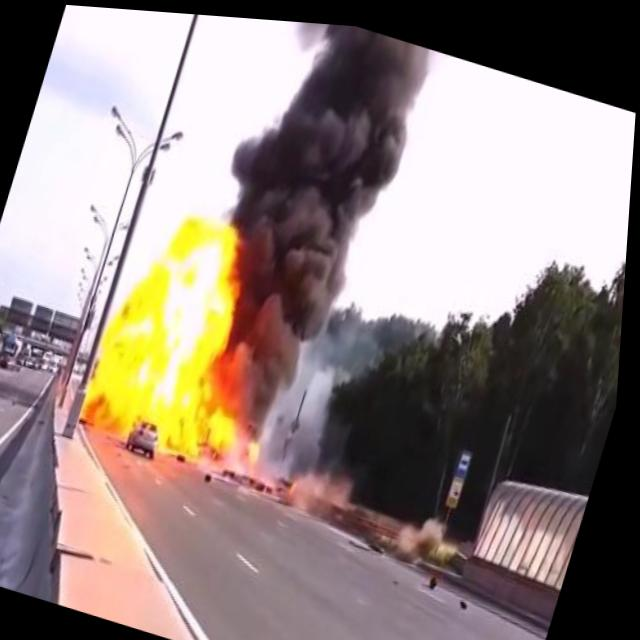fire: (80, 184, 327, 483)
